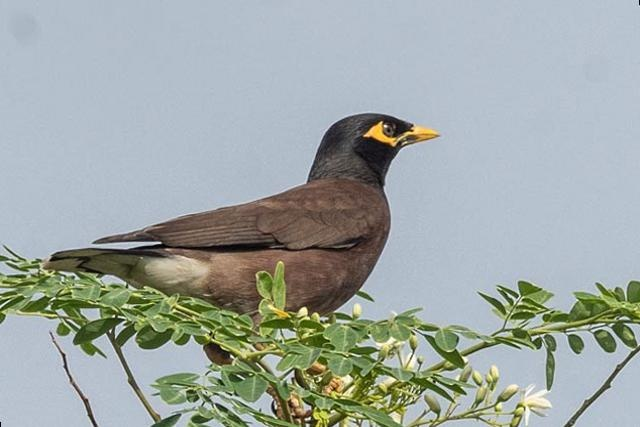myna: (55, 105, 455, 329)
